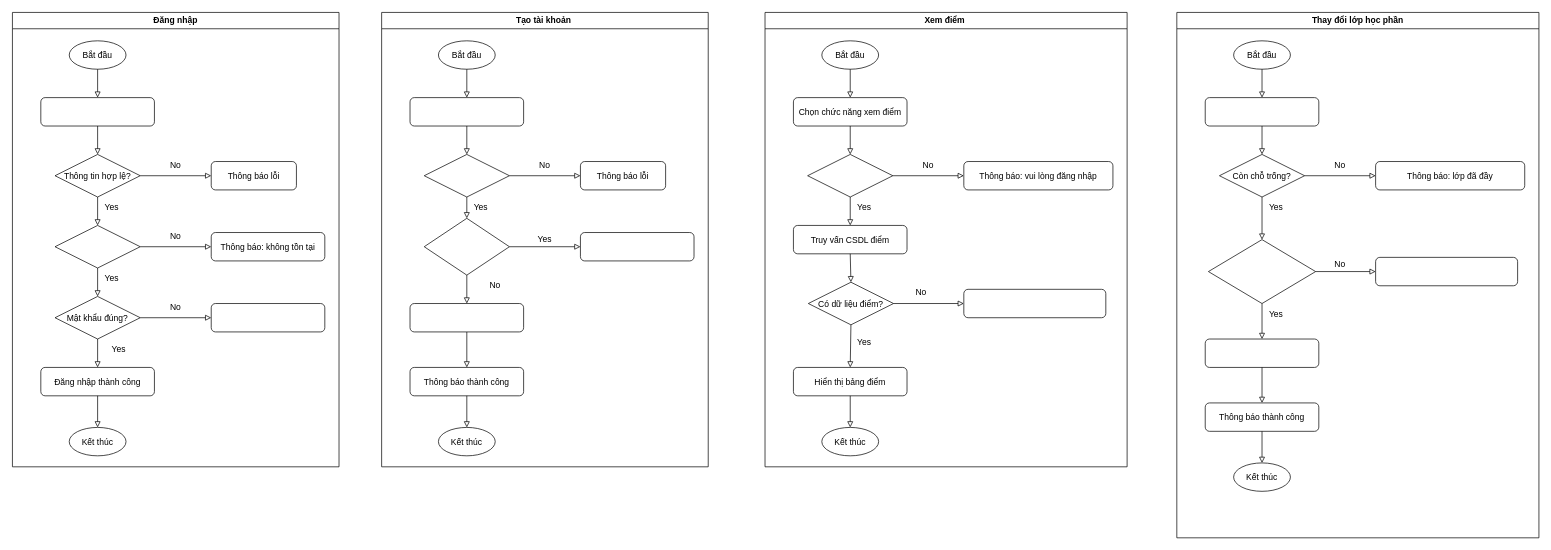
Some shapes in this 1551 by 550 pixel diagram are drawn without their labels. Each missing label, with the centre of its shape:
Chọn lớp học phần muốn đổi: point (1262, 111)
Cập nhật đăng ký: point (1262, 352)
Mã SV/GV hợp lệ?: point (466, 175)
Nhập thông tin đăng ký: point (466, 111)
Nhập username + password: point (97, 111)
Thông báo sai mật khẩu: point (268, 317)
Thông báo: chưa có kết quả: point (1034, 303)
Thông báo: hết hạn đổi lớp: point (1446, 271)
Thông báo: đã tồn tại: point (637, 246)
Trong thời hạn đăng ký?: point (1262, 271)
Tài khoản tồn tại?: point (97, 246)
Tài khoản đã tồn tại?: point (466, 246)
Tạo tài khoản mới: point (466, 317)
Đã đăng nhập?: point (850, 175)
